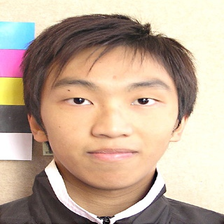no_mask: (43, 63, 176, 185)
